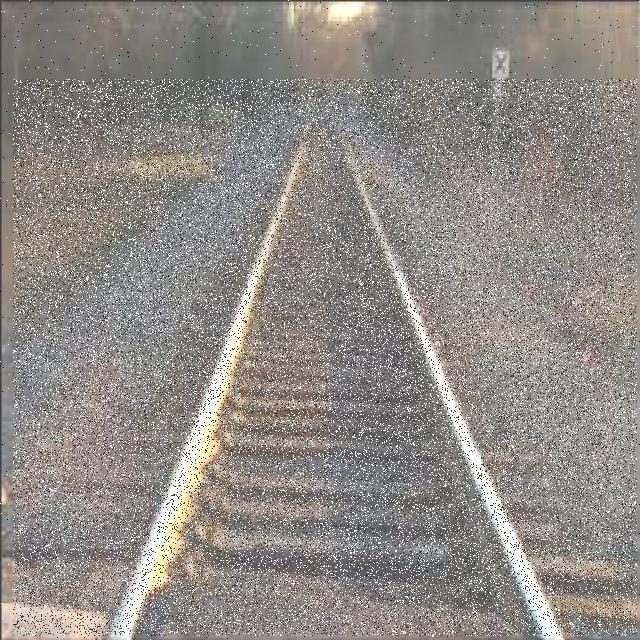rail: (13, 80, 637, 636)
